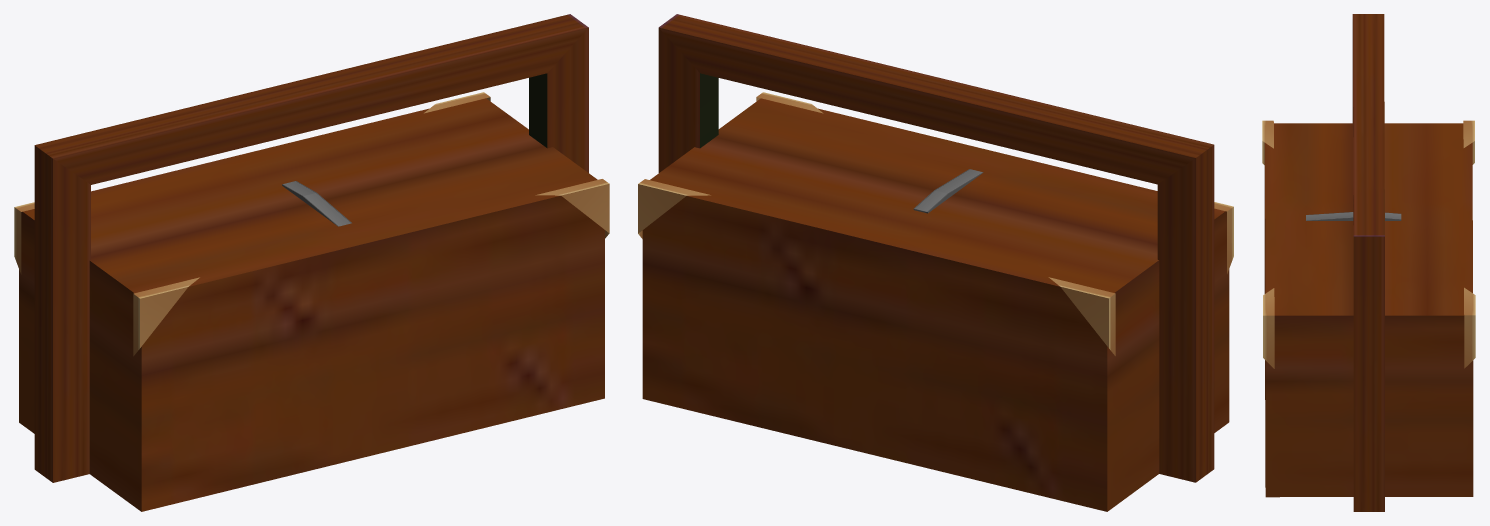
File: Toolbox.fbx
3 renders of one model, left to right at view 1: azimuth 30°, elevation 25°; view 2: azimuth 150°, elevation 25°; view 3: azimuth 270°, elevation 25°, orthographic. The views are drawn at different scales.
Parts seen in each view (by area): view 1: Toolbox; view 2: Toolbox; view 3: Toolbox.
Part boxes in pixels (box(x1,y1,x2,y2)): Toolbox: box(14, 14, 609, 511); Toolbox: box(638, 14, 1233, 511); Toolbox: box(1262, 14, 1475, 511).
Size of the model in its own units: 507 by 293 by 206.
